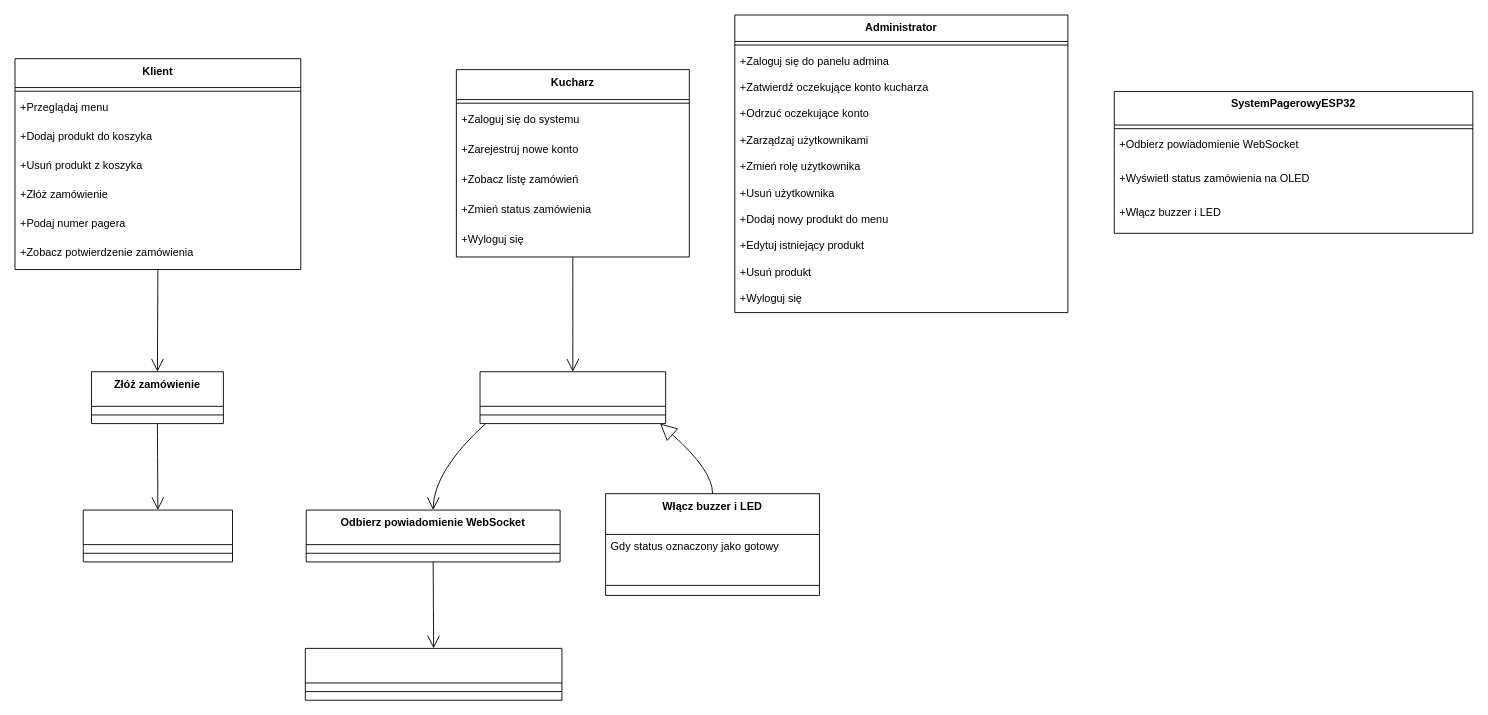
This 1488x715 diagram has some shape labels left out. The shapes that lost their labels are listed below. From the top down, each one's centre as x and y in pixels, then its label:
At (572,397): "Zmień status zamówienia".
At (157,535): "Podaj numer pagera".
At (433,673): "Wyświetl status zamówienia na OLED".
